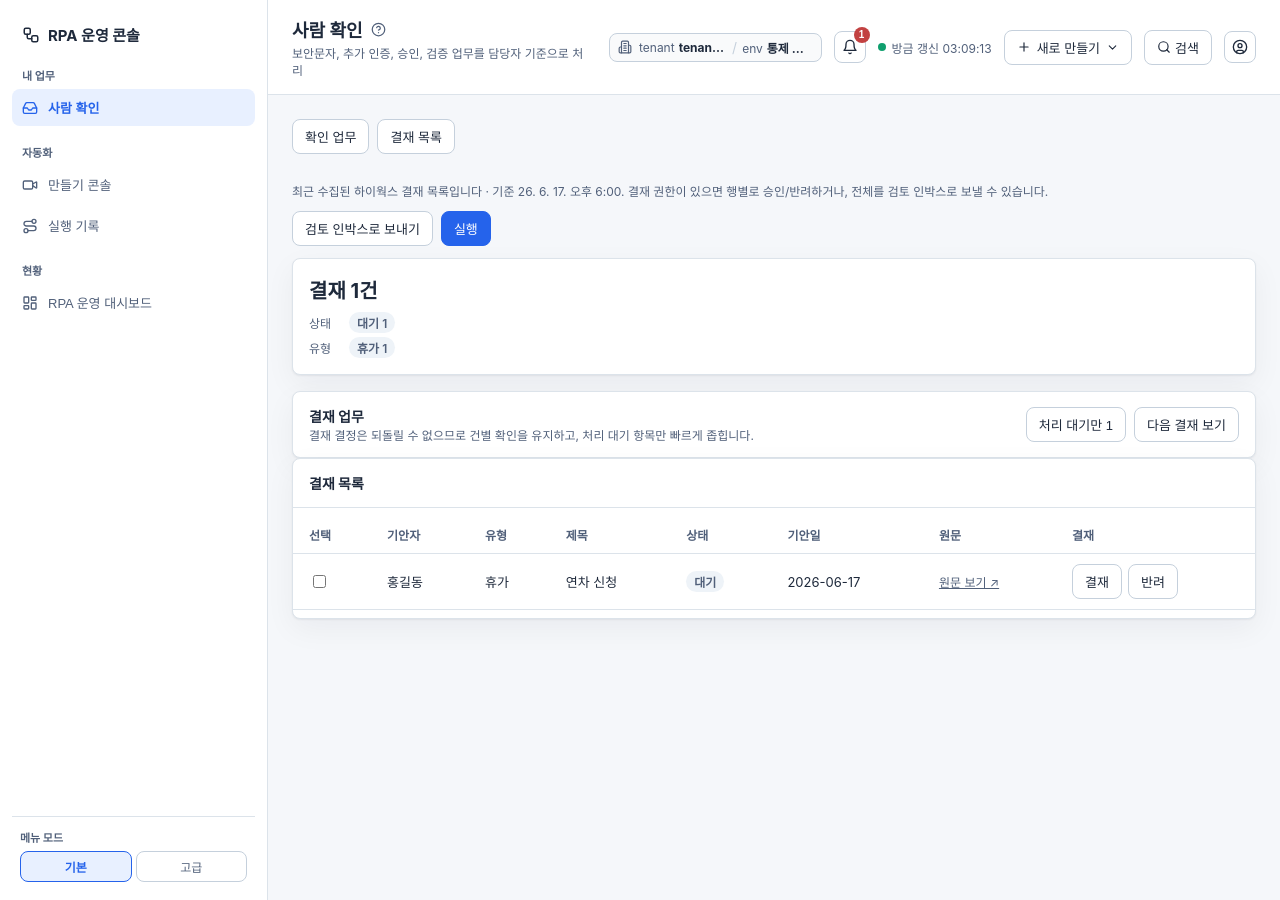
결재 인박스 — 건별 결재(2c) › 반려는 사유 필수 — 입력 전 '반려 제출' 비활성
Expected: the text "연차 신청" is shown, [550,554,670,610]
Click the button "반려".
click(1153, 582)  # box [1128,564,1178,599]
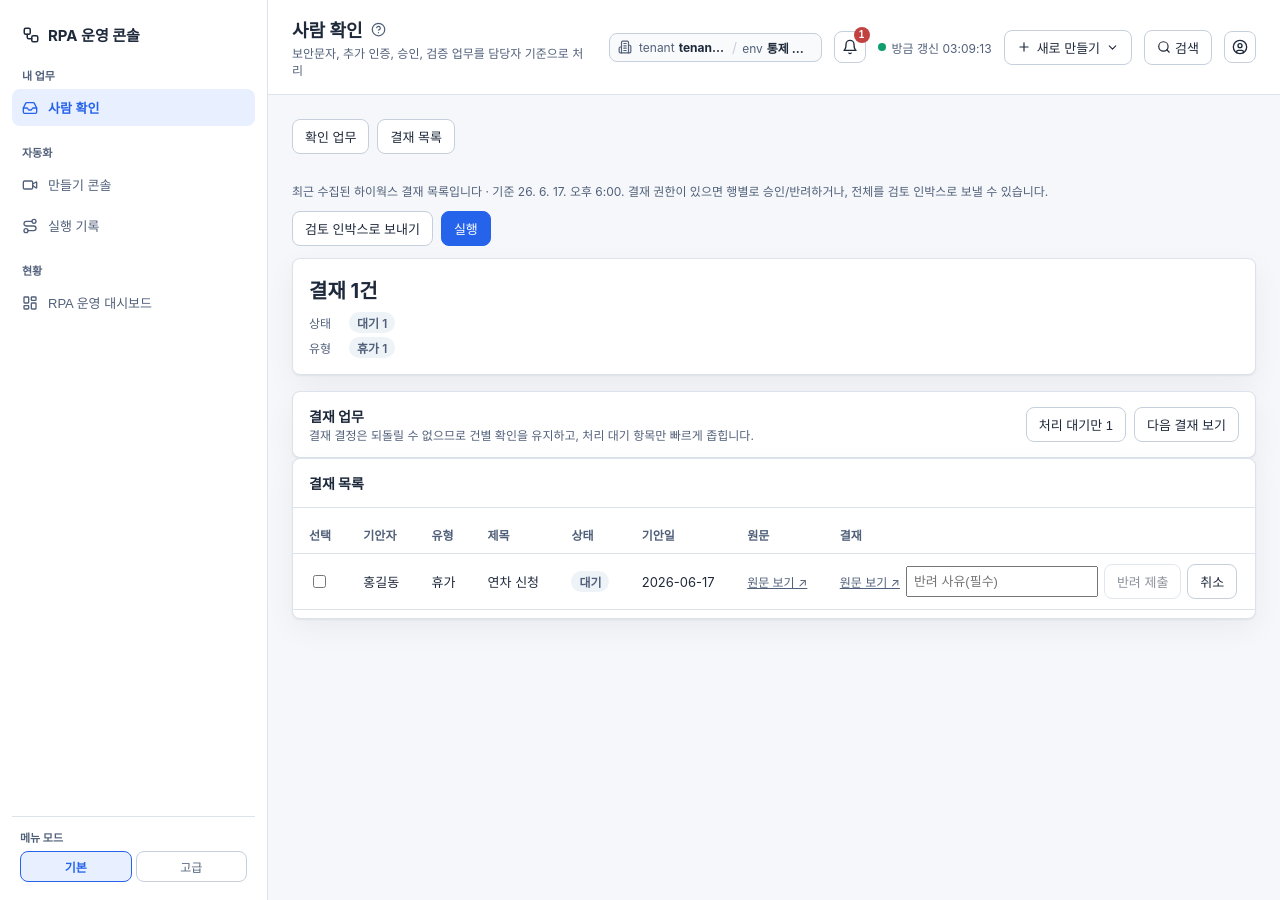
Expected: the button "반려 제출" is disabled, [1104,564,1181,599]
Type "예산 초과" into the field labelled "반려 사유".
click(1002, 582); type("예산 초과")  # box [906,566,1098,597]
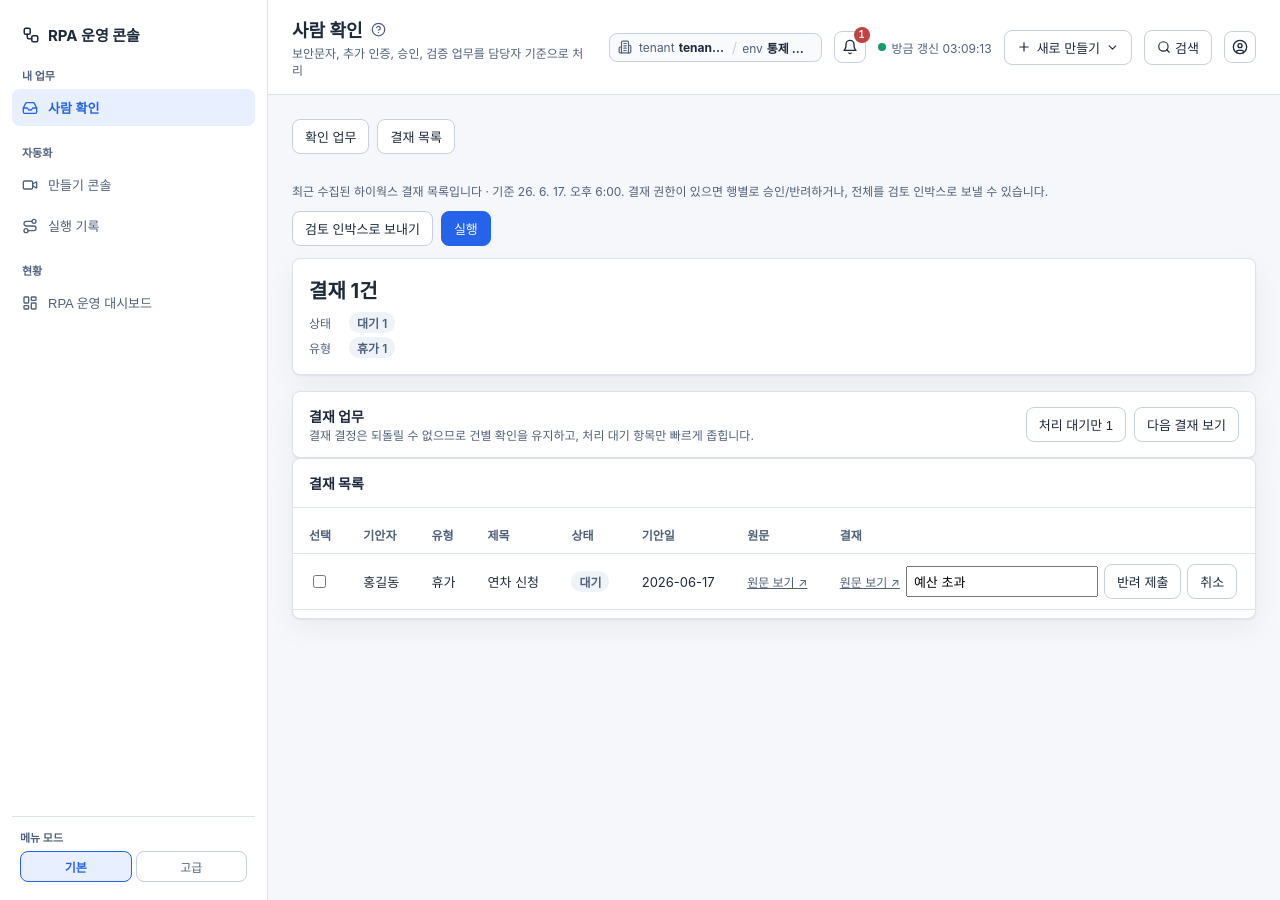
Expected: the button "반려 제출" is enabled, [1104,564,1181,599]
